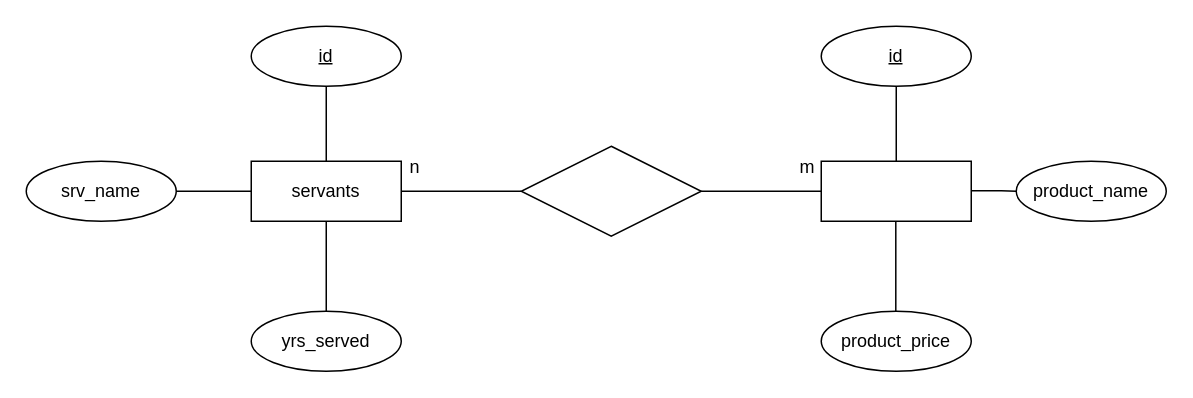
Some shapes in this 1193 by 398 pixel diagram are drawn without their labels. Each missing label, with the box of its shape:
buys: (520, 145, 701, 236)
products: (820, 160, 971, 221)
